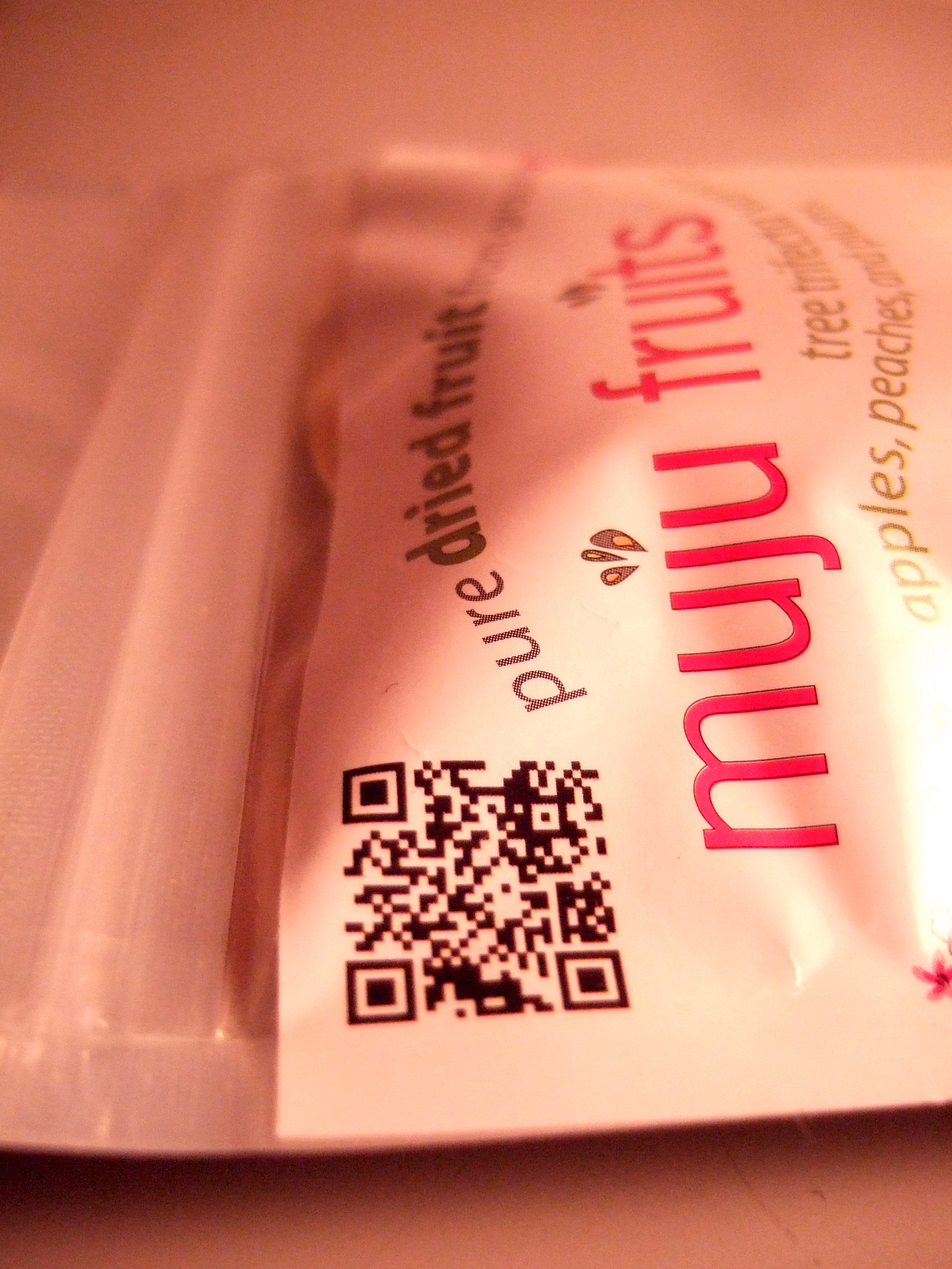QR-CODE: (343, 759, 630, 1024)
